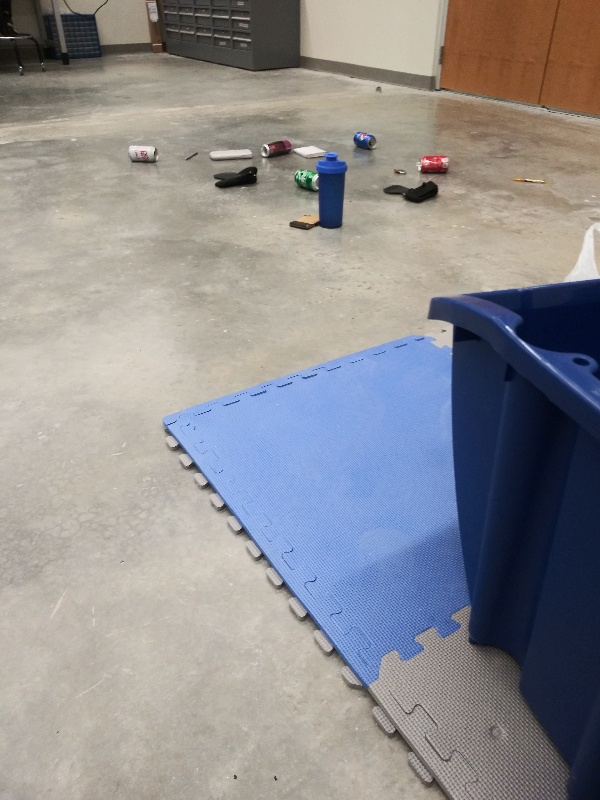can: (258, 139, 294, 161), (417, 153, 453, 175), (125, 143, 159, 164), (292, 167, 321, 189), (352, 129, 379, 151)
